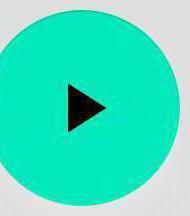ImgButton: (1, 1, 189, 215)
